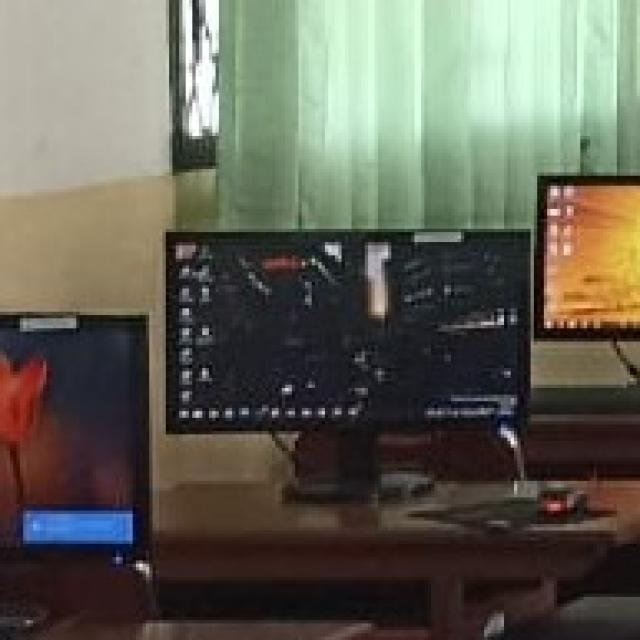onscreen: (168, 232, 527, 432), (0, 316, 148, 548), (544, 184, 640, 329)
